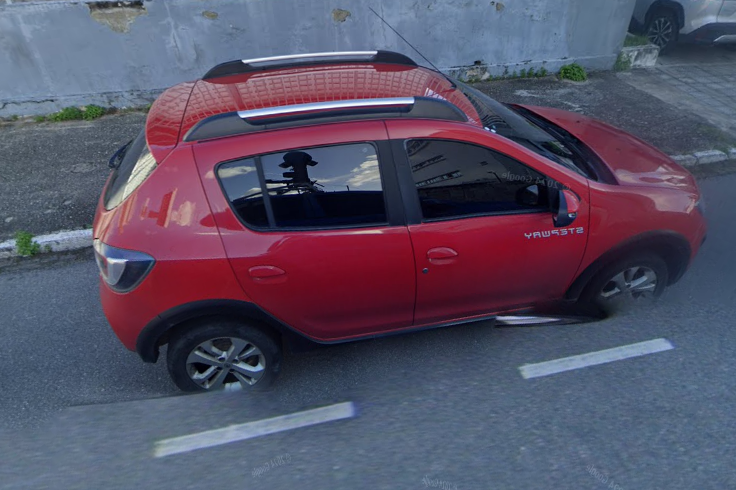car: (91, 6, 712, 409)
